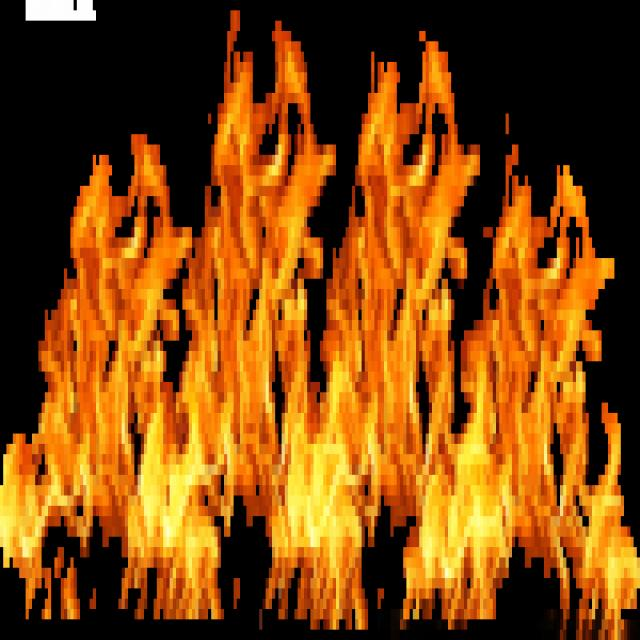fire: (3, 62, 640, 630)
